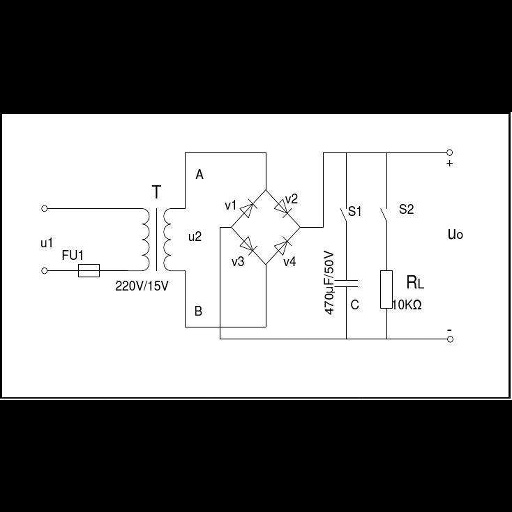capacitor: (333, 274, 362, 291)
firstresistance: (376, 264, 394, 314)
fuse: (74, 262, 103, 280)
rectifierbridge: (230, 190, 301, 266)
transformer: (137, 207, 179, 273)
